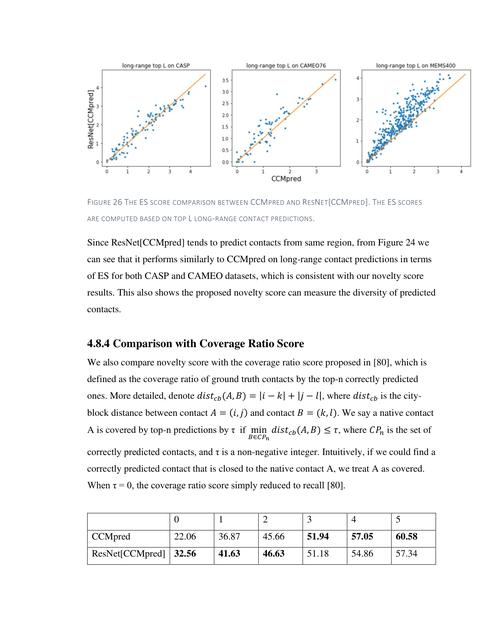box: (85, 61, 475, 186), (85, 511, 437, 566)
